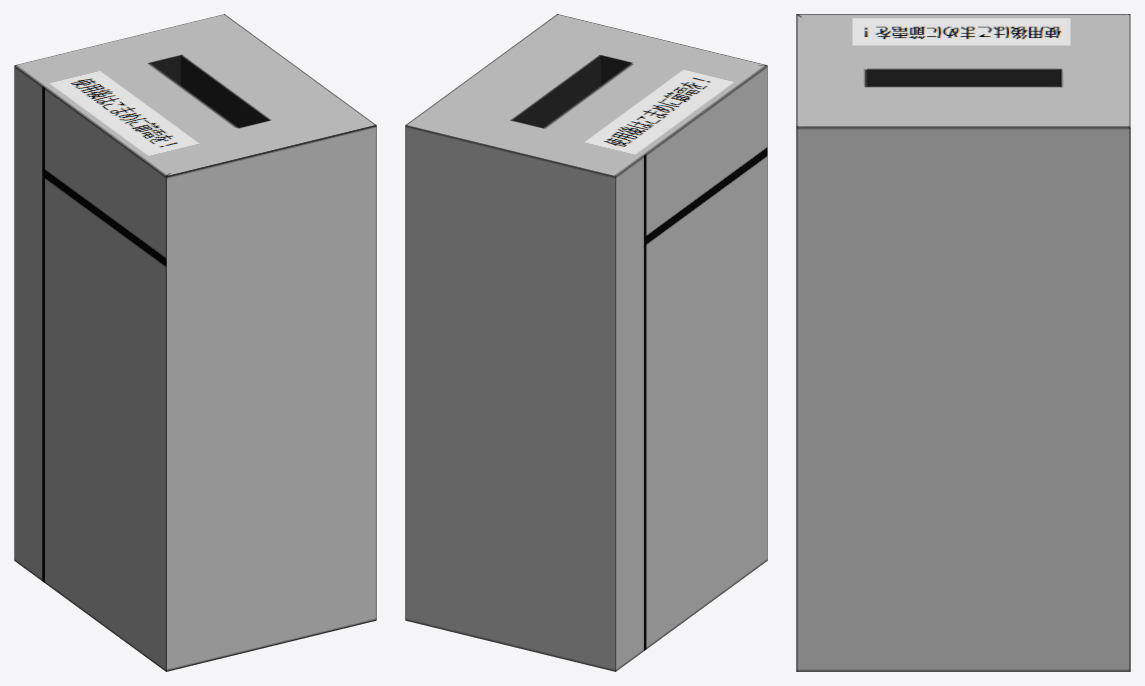
Rendered from Shredder 1.fbx.
The picture shows the model from 3 angles, left to right: view 1: azimuth 30°, elevation 25°; view 2: azimuth 150°, elevation 25°; view 3: azimuth 270°, elevation 25°; orthographic projection. The views are drawn at different scales.
Visible parts, largest first — view 1: Shredder; view 2: Shredder; view 3: Shredder.
Boxes of the visible parts, left/top/right/bottom form: Shredder: left=14, top=14, right=376, bottom=671; Shredder: left=405, top=14, right=767, bottom=671; Shredder: left=796, top=14, right=1130, bottom=671.
Size of the model in its own units: 40 by 90 by 50.
